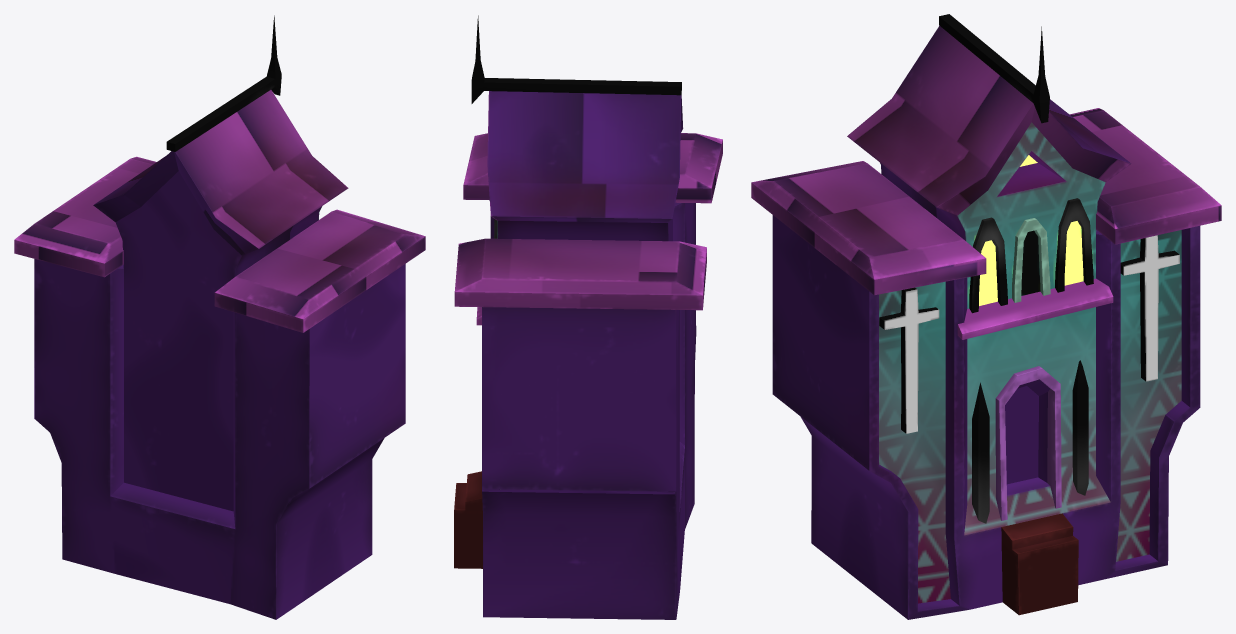
The model's file is modul_mining_2.fbx.
3 views of the same model, side by side, from view 1: azimuth 30°, elevation 25°; view 2: azimuth 150°, elevation 25°; view 3: azimuth 270°, elevation 25° (orthographic). The views are drawn at different scales.
Visible parts, largest first — view 1: modul_mining_2; view 2: modul_mining_2; view 3: modul_mining_2.
Part boxes in pixels (x1,y1,x2,y2): modul_mining_2: [14, 15, 425, 619]; modul_mining_2: [454, 15, 722, 619]; modul_mining_2: [751, 14, 1221, 619].
Bounding box in the file's own units: 1183 × 1836 × 1368.
1 material, 1 textured.
